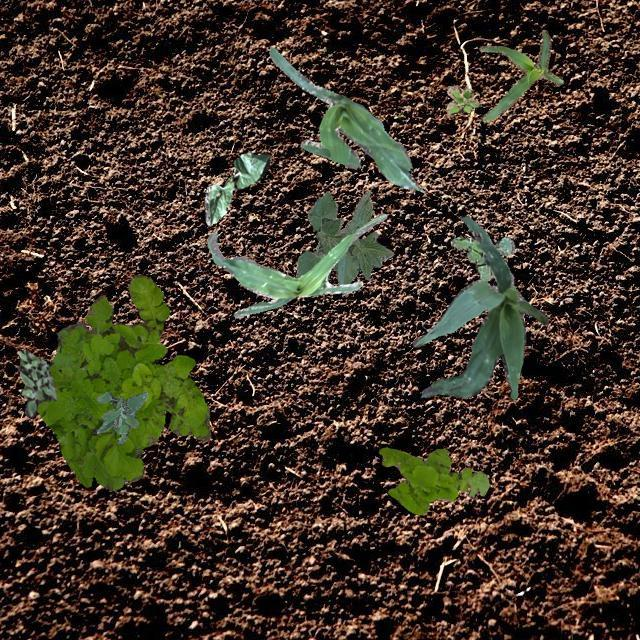crop: (412, 214, 548, 398), (269, 47, 417, 189), (207, 212, 386, 316), (296, 190, 392, 284), (478, 29, 562, 120), (204, 152, 268, 224)
weed: (36, 274, 210, 490), (378, 446, 488, 514), (449, 236, 514, 280), (96, 389, 146, 444), (16, 348, 56, 416), (446, 84, 478, 112)
